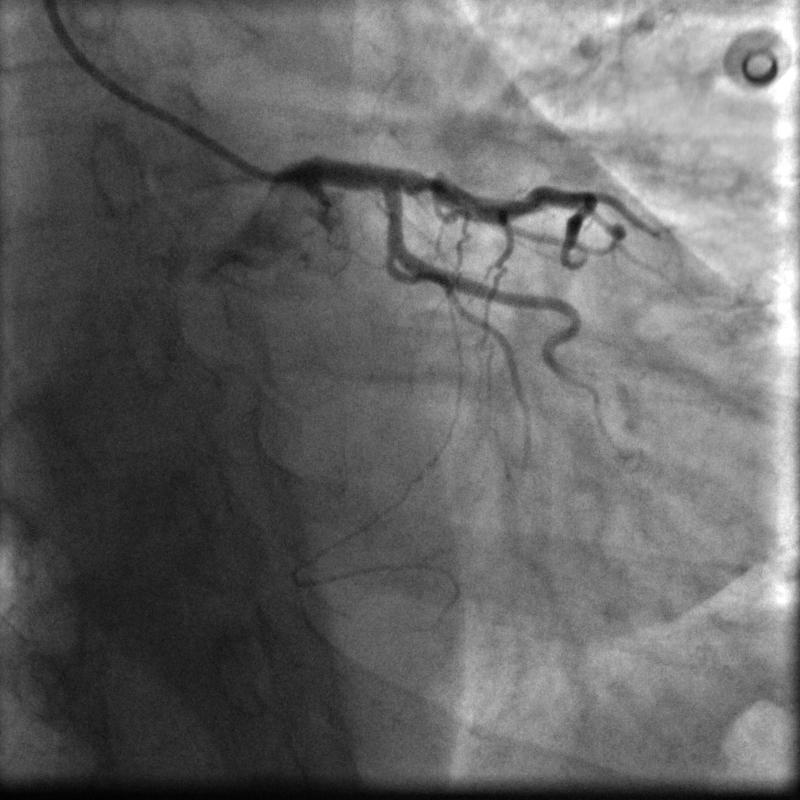Stenosis: (415, 166, 438, 199)
